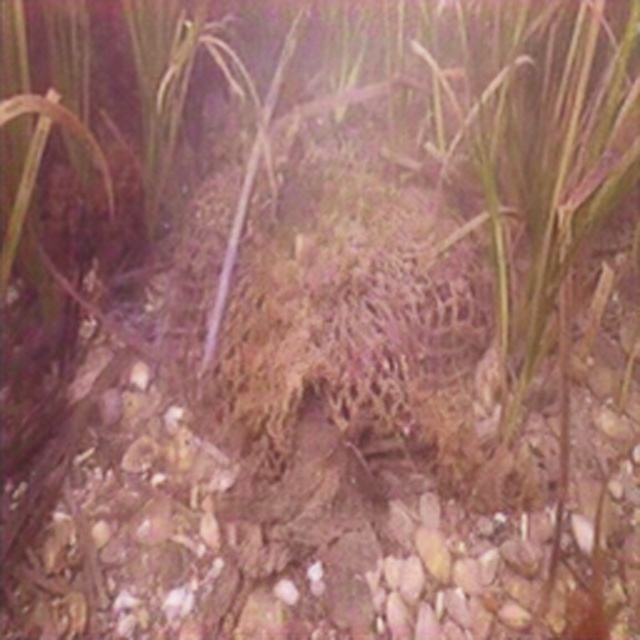mine: (172, 127, 491, 432)
